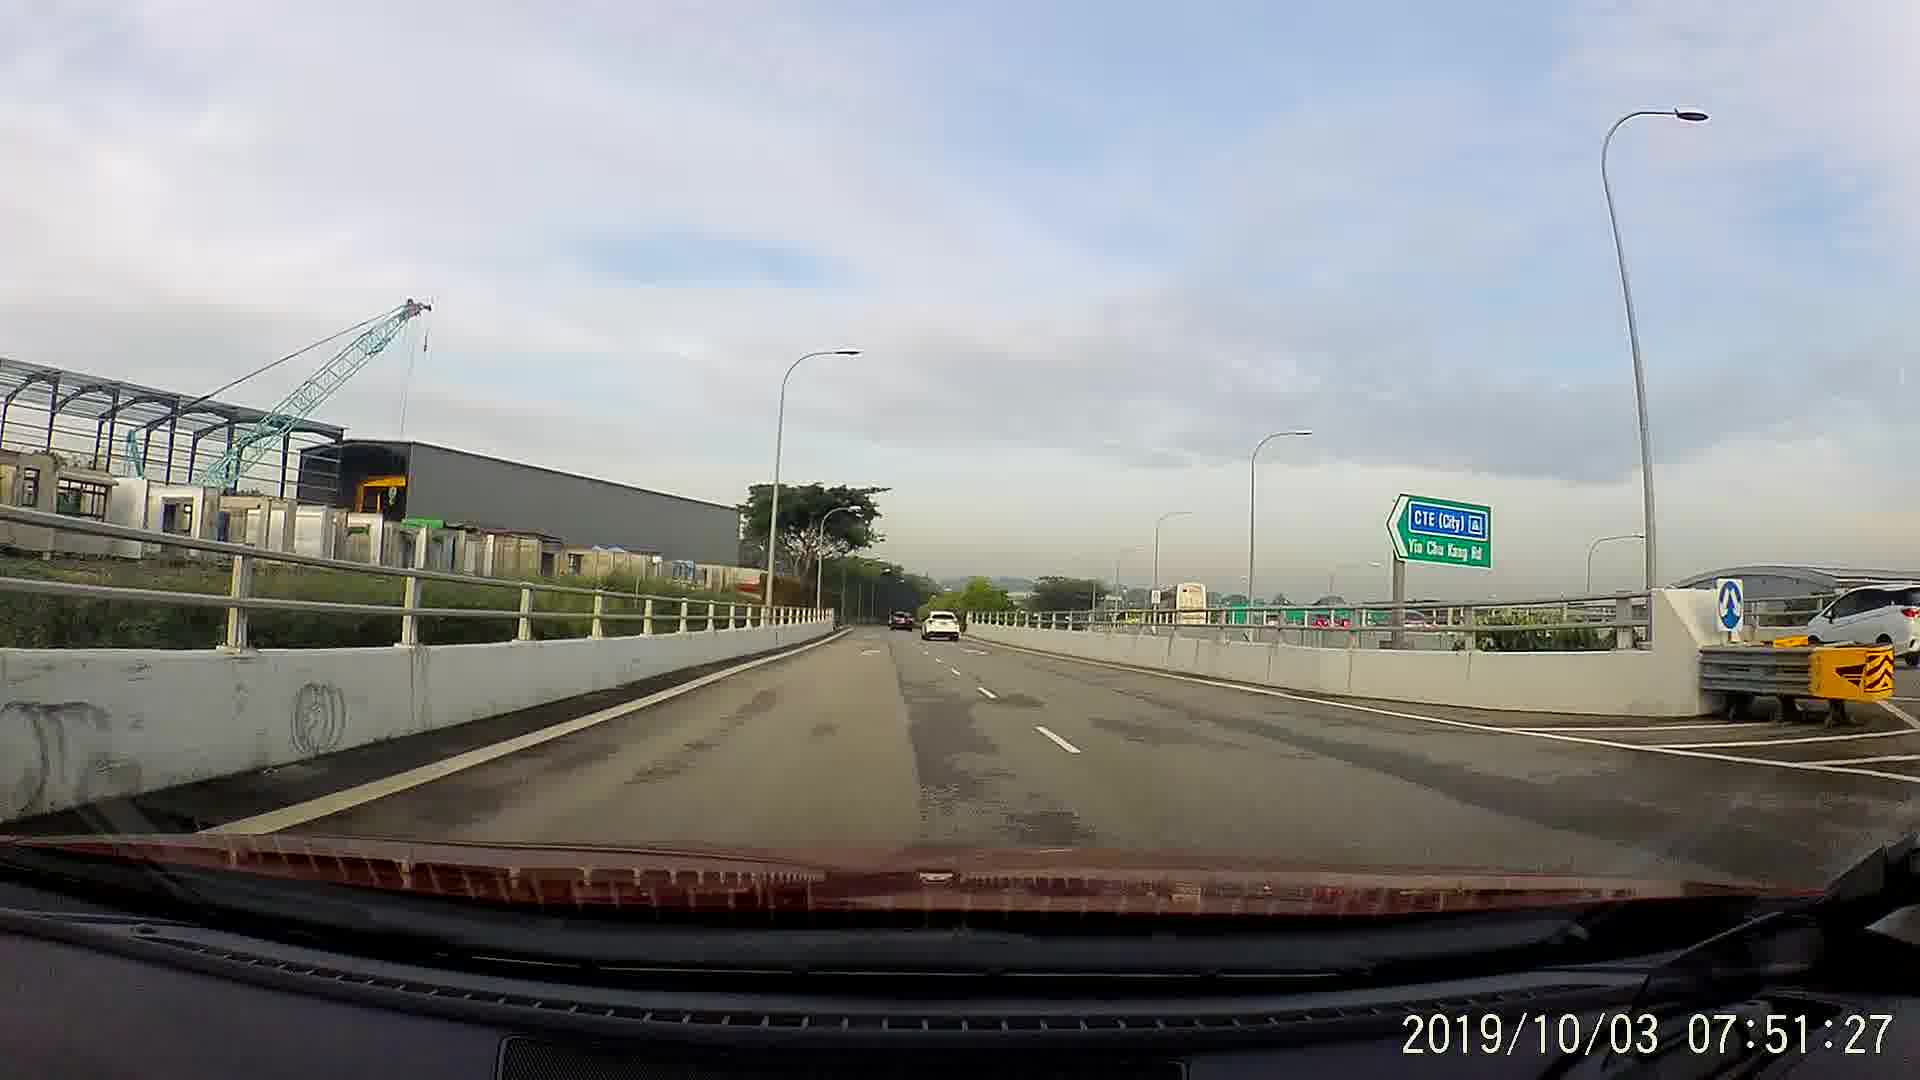bus: (1153, 583, 1215, 625)
car: (1803, 578, 1919, 657), (919, 611, 957, 641), (885, 611, 919, 632)
